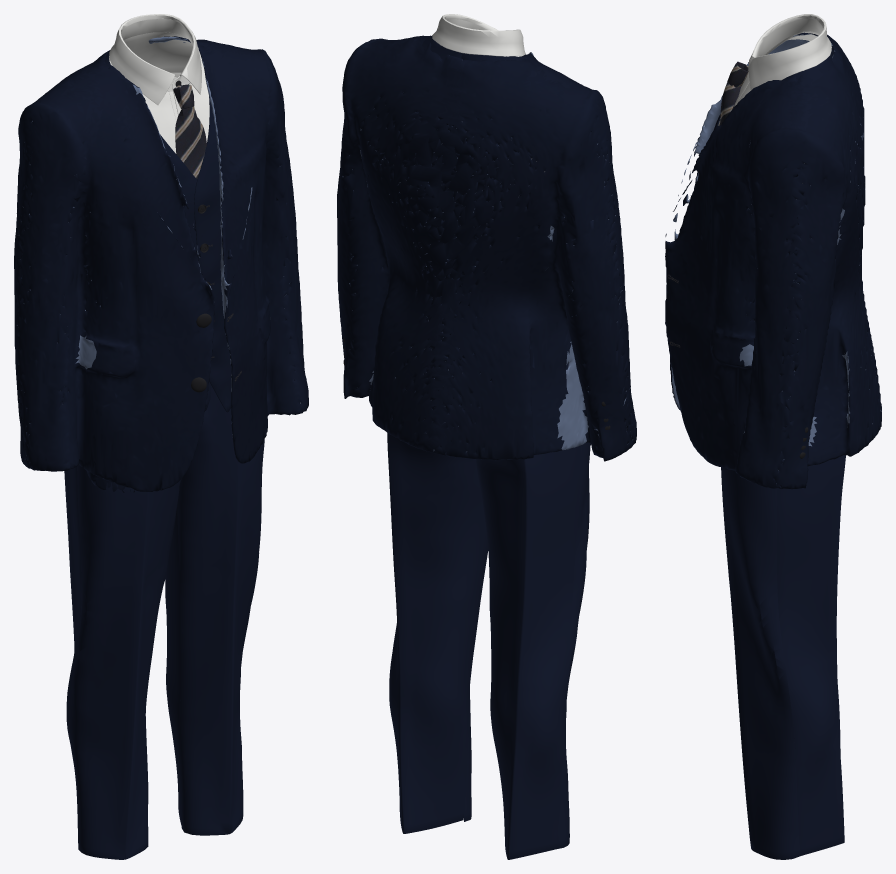
File: MW_Tailleur_suit_v5_REBUILD_try2.glb
The picture shows the model from 3 angles, left to right: view 1: azimuth 30°, elevation 25°; view 2: azimuth 150°, elevation 25°; view 3: azimuth 270°, elevation 25°; orthographic projection. The views are drawn at different scales.
Parts seen in each view (by area): view 1: Jacket, Trousers, Shirt, Waistcoat, Tie; view 2: Jacket, Trousers, Shirt, Waistcoat; view 3: Jacket, Trousers, Shirt, Tie, Waistcoat.
Part boxes in pixels (x1,y1,x2,y2): Jacket: (14,36,308,492); Trousers: (64,381,264,859); Shirt: (109,14,209,153); Waistcoat: (104,43,231,412); Tie: (173,84,206,178); Jacket: (337,35,636,461); Trousers: (387,357,590,859); Shirt: (432,14,544,171); Waistcoat: (384,36,531,348); Jacket: (665,32,881,489); Trousers: (721,455,845,859); Shirt: (718,14,831,125); Tie: (719,61,748,125); Waistcoat: (714,46,834,129).
Bounding box in the file's own units: 0.5417 × 1.5 × 0.3692.
Materials: 8 (3 with a texture image).
